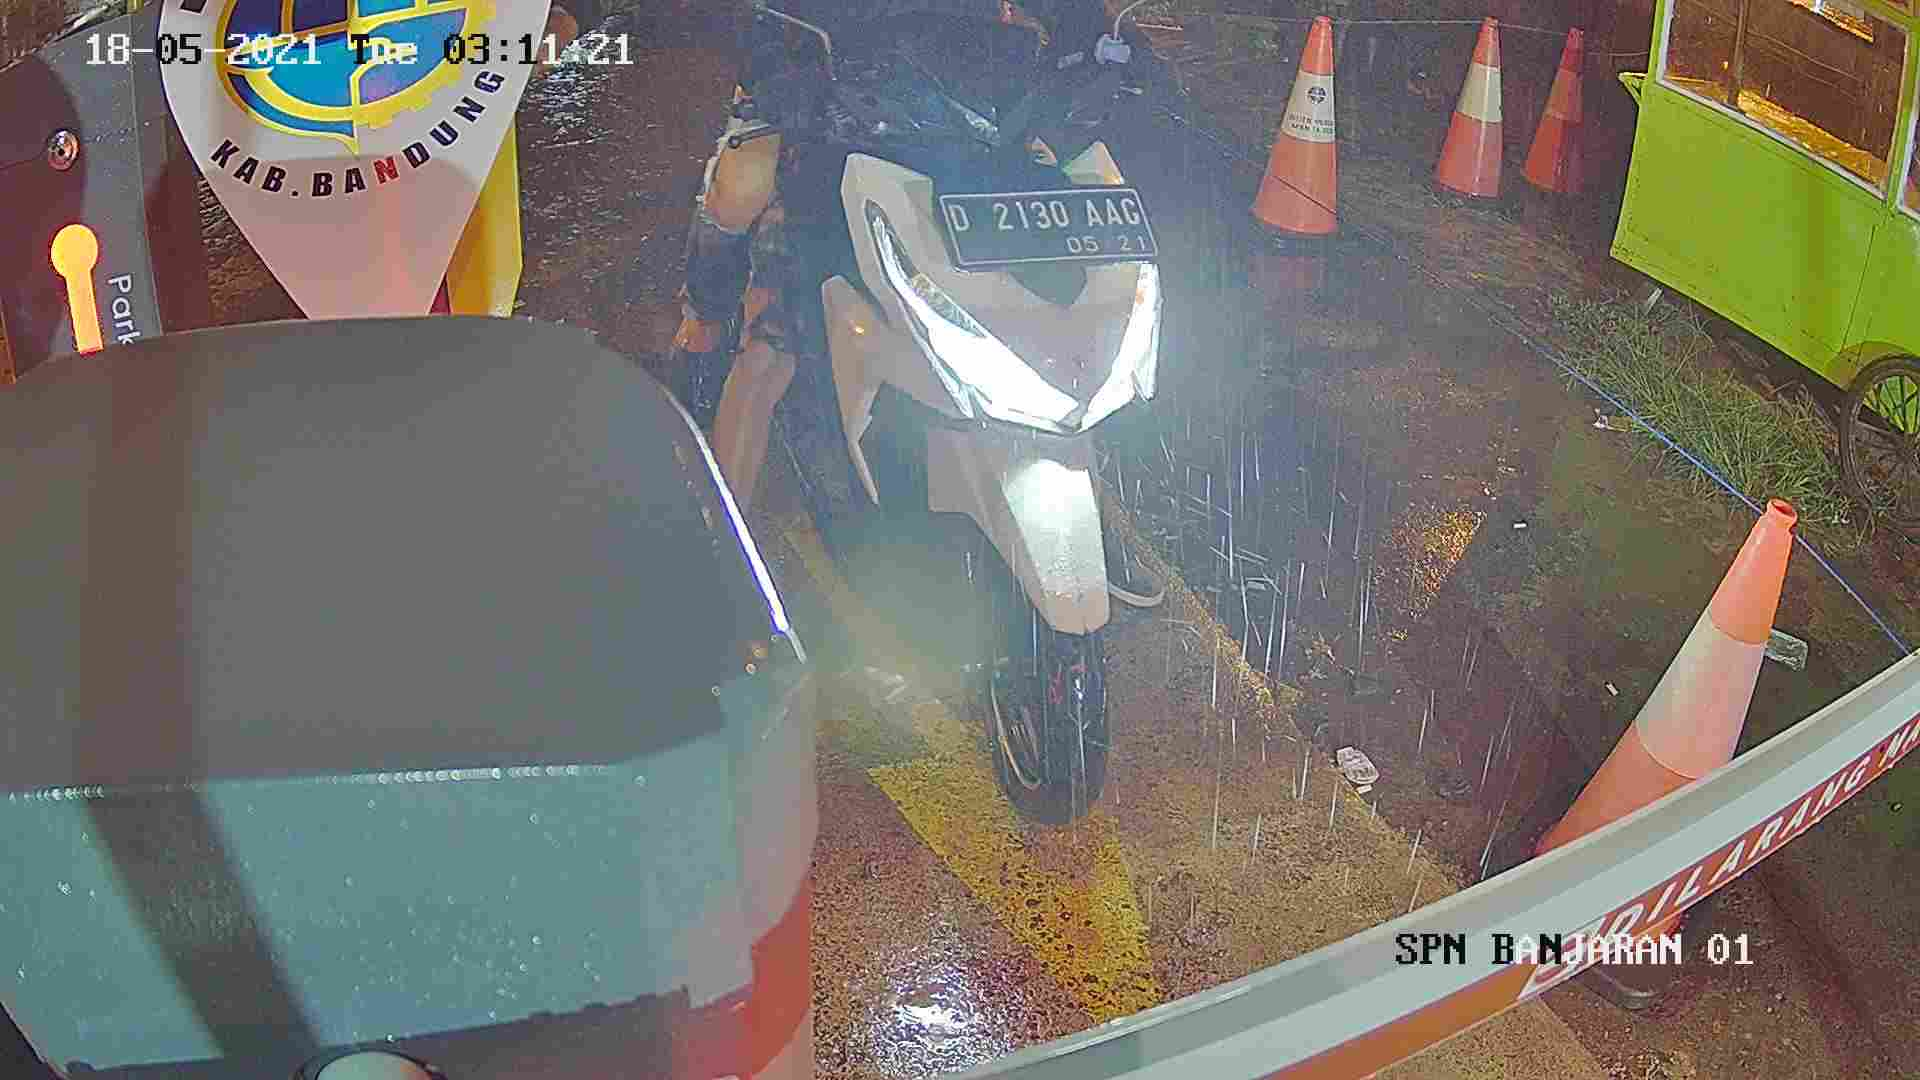mobil: (738, 20, 1254, 866)
